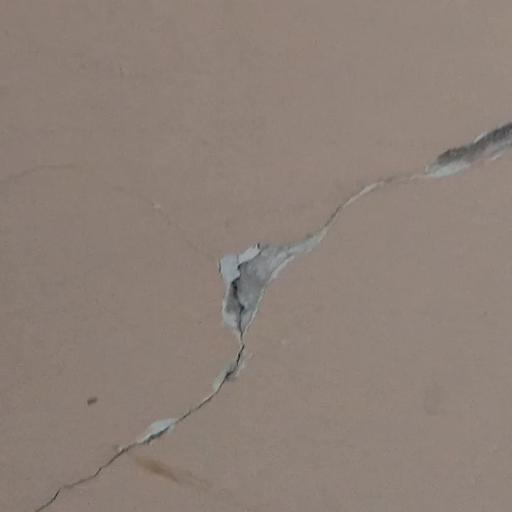major_crack: (26, 114, 512, 512)
